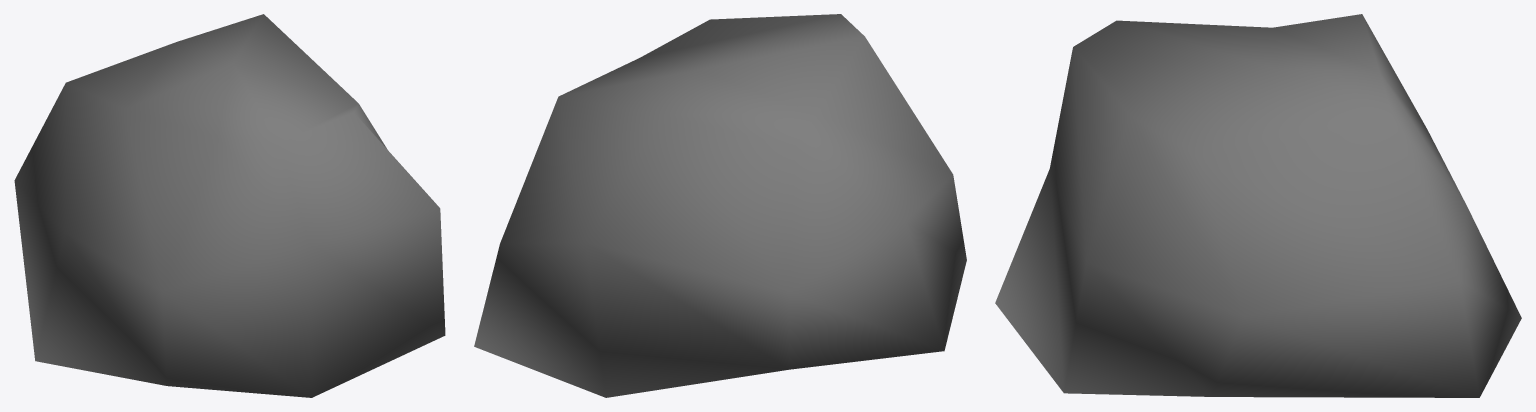
The model's file is Rock.fbx.
The picture shows the model from 3 angles, left to right: view 1: azimuth 30°, elevation 25°; view 2: azimuth 150°, elevation 25°; view 3: azimuth 270°, elevation 25°; orthographic projection. The views are drawn at different scales.
Visible parts, largest first — view 1: Cube; view 2: Cube; view 3: Cube.
Boxes of the visible parts, bbox=[...] form: Cube: bbox=[14, 14, 445, 397]; Cube: bbox=[474, 14, 966, 397]; Cube: bbox=[995, 14, 1521, 397].
Size of the model in its own units: 3.53 by 3.8 by 2.07.
